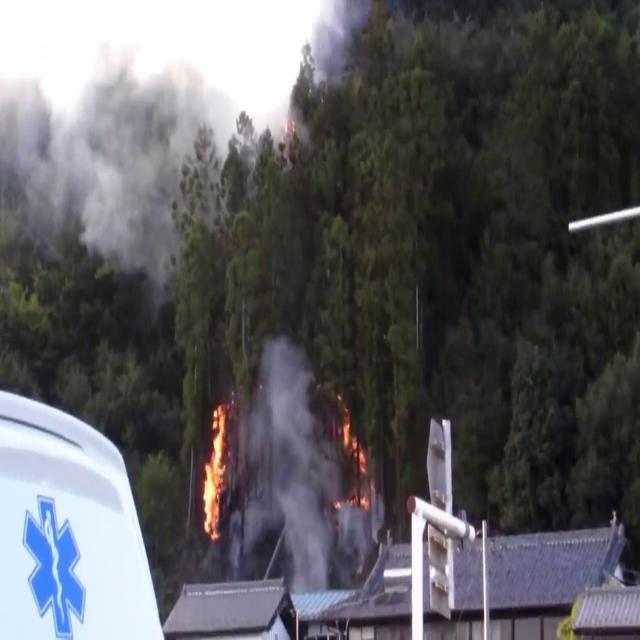Fire: (199, 392, 232, 542), (335, 388, 373, 503)
Smoke: (2, 19, 186, 298), (238, 314, 344, 604)
